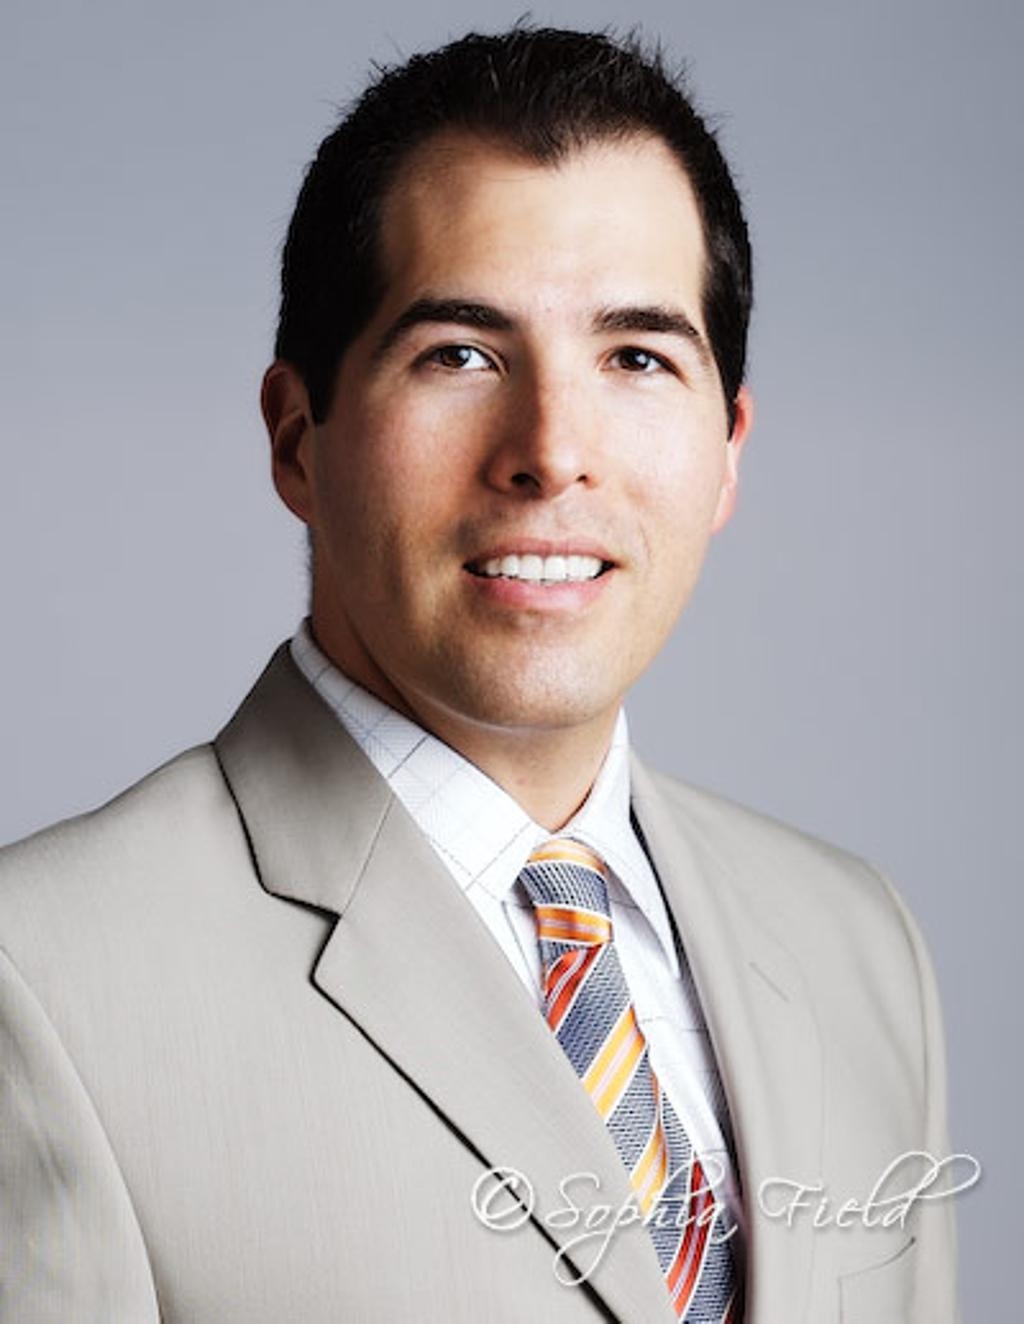face: (305, 145, 716, 722)
